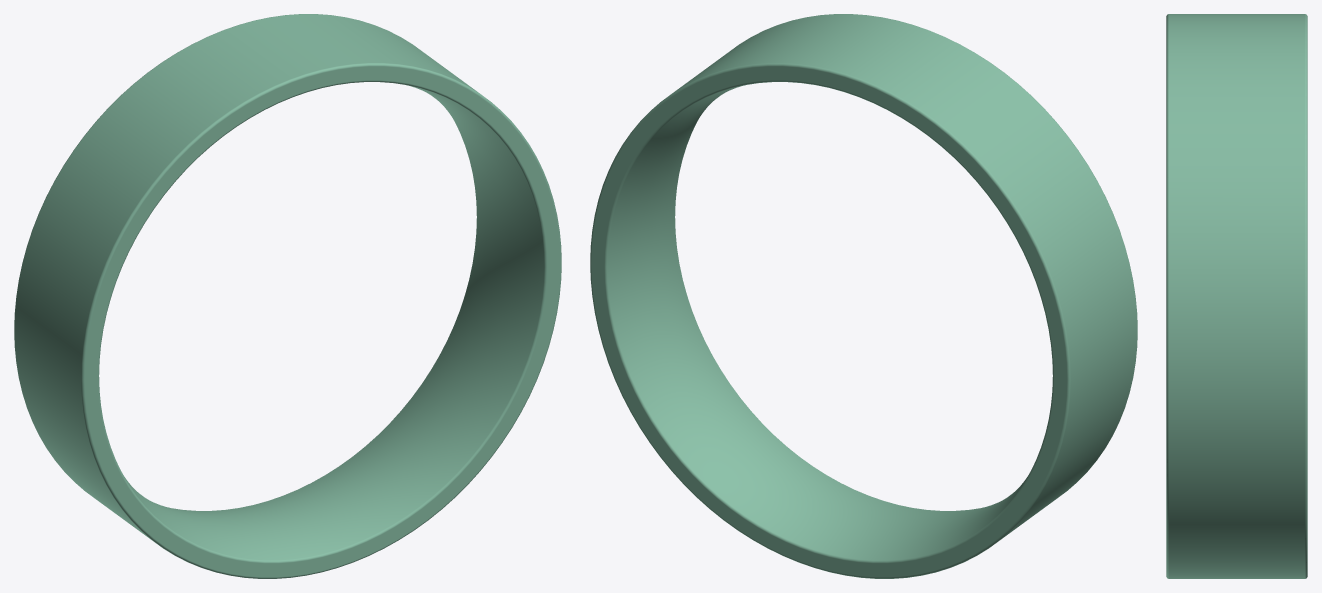
3 views of the same model, side by side, from view 1: azimuth 30°, elevation 25°; view 2: azimuth 150°, elevation 25°; view 3: azimuth 270°, elevation 25° (orthographic).
Parts seen in each view (by area): view 1: 8g 5mm.3dm; view 2: 8g 5mm.3dm; view 3: 8g 5mm.3dm.
Part boxes in pixels (left/top/right/bottom): 8g 5mm.3dm: left=14, top=14, right=561, bottom=578; 8g 5mm.3dm: left=590, top=14, right=1137, bottom=578; 8g 5mm.3dm: left=1166, top=14, right=1307, bottom=578.
Bounding box in the file's own units: 2.79 × 2.79 × 0.6965.
